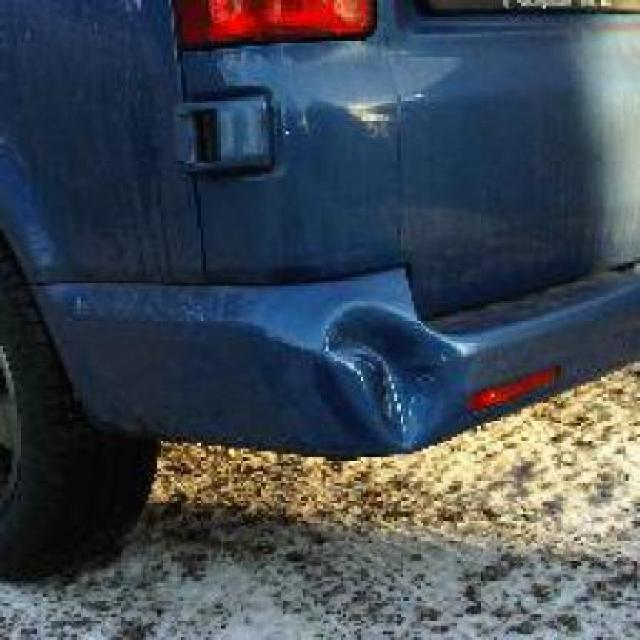dent-or-scratch: (288, 288, 487, 466)
